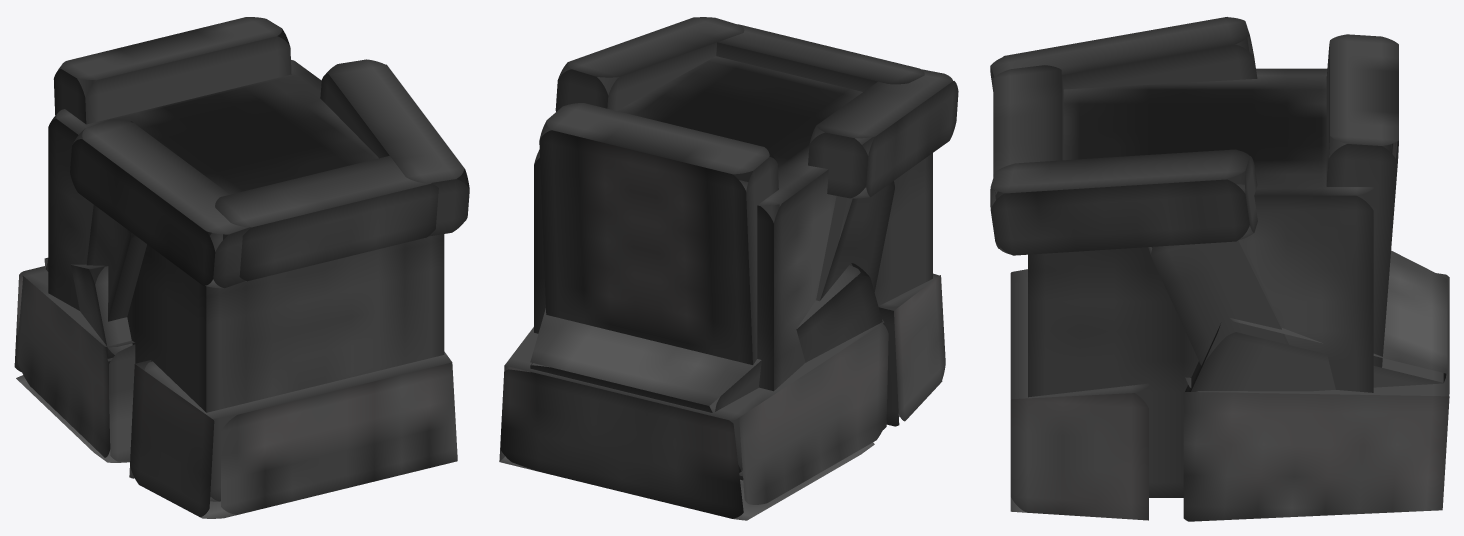
File: civilian_b_r.obj
3 views of the same model, side by side, from view 1: azimuth 30°, elevation 25°; view 2: azimuth 150°, elevation 25°; view 3: azimuth 270°, elevation 25° (orthographic). The views are drawn at different scales.
Parts seen in each view (by area): view 1: cube; view 2: cube; view 3: cube.
Part boxes in pixels (x1,y1,x2,y2): cube: (14, 17, 469, 518); cube: (499, 17, 958, 520); cube: (990, 17, 1449, 521).
Size of the model in its own units: 0.3519 by 0.3565 by 0.4171.
